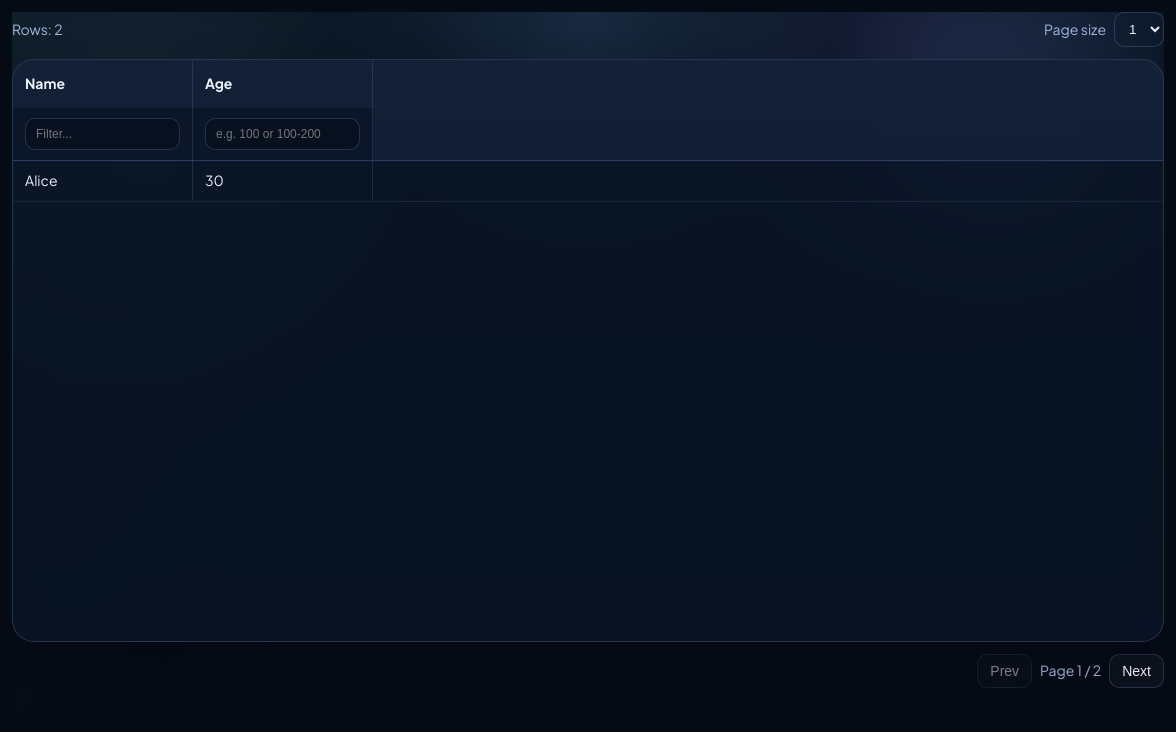
Test: DataGrid › supports pagination controls
Expected: the text "Page 1 / 2" is shown, [1040,660,1101,682]
Click the button "Next". click: (1137, 671)
box: [1109,654,1164,688]
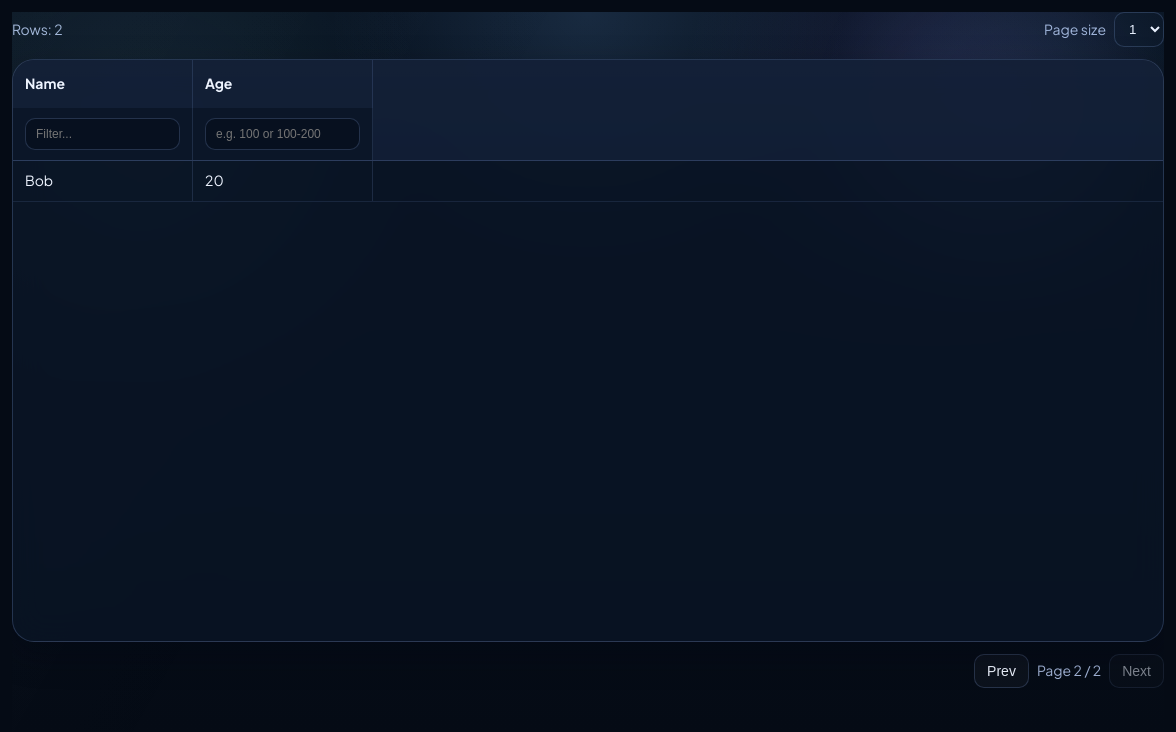
Expected: the text "Page 2 / 2" is shown, [1037,660,1101,682]
